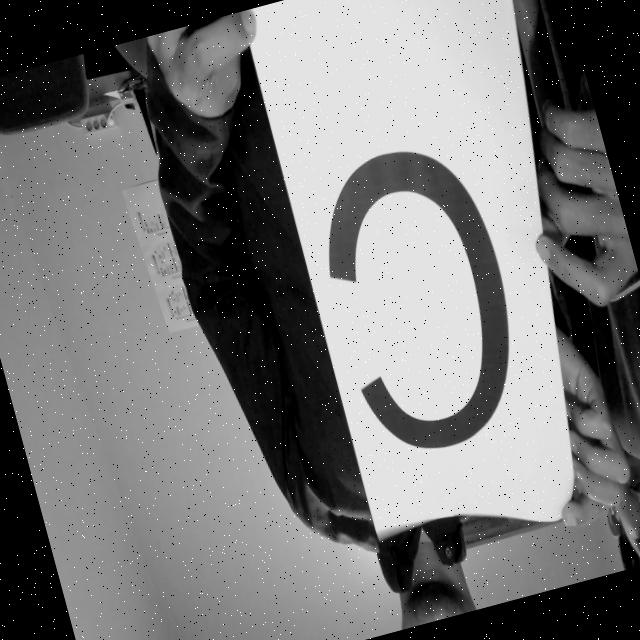c: (292, 118, 548, 476)
